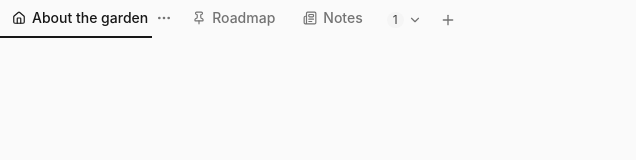
Test: the main page in the tabs › tucks unpinned boards under More as project management, and keeps pinned ones
Expected: the link "About the garden" is shown, [0, 0, 152, 38]
Expected: the link "Roadmap" is shown, [192, 9, 275, 26]
What coordinates should you click on to do the following:
click the button named "More views (1)"
I would click on:
 (404, 20)
Its box is [379, 6, 430, 34].
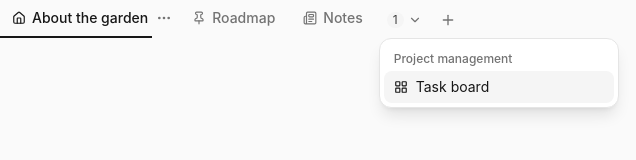
Expected: the text "Project management" is shown, [394, 51, 512, 66]
Expected: the menu item "Task board" is shown, [384, 71, 614, 103]
